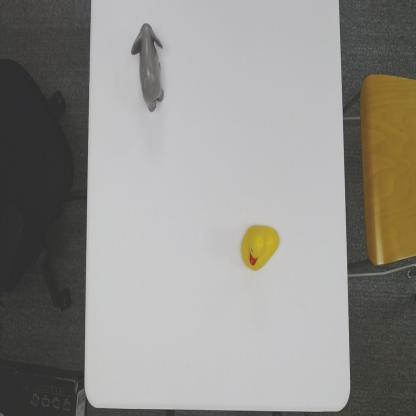Duck: (239, 220, 281, 273)
Elephant: (130, 21, 166, 114)
